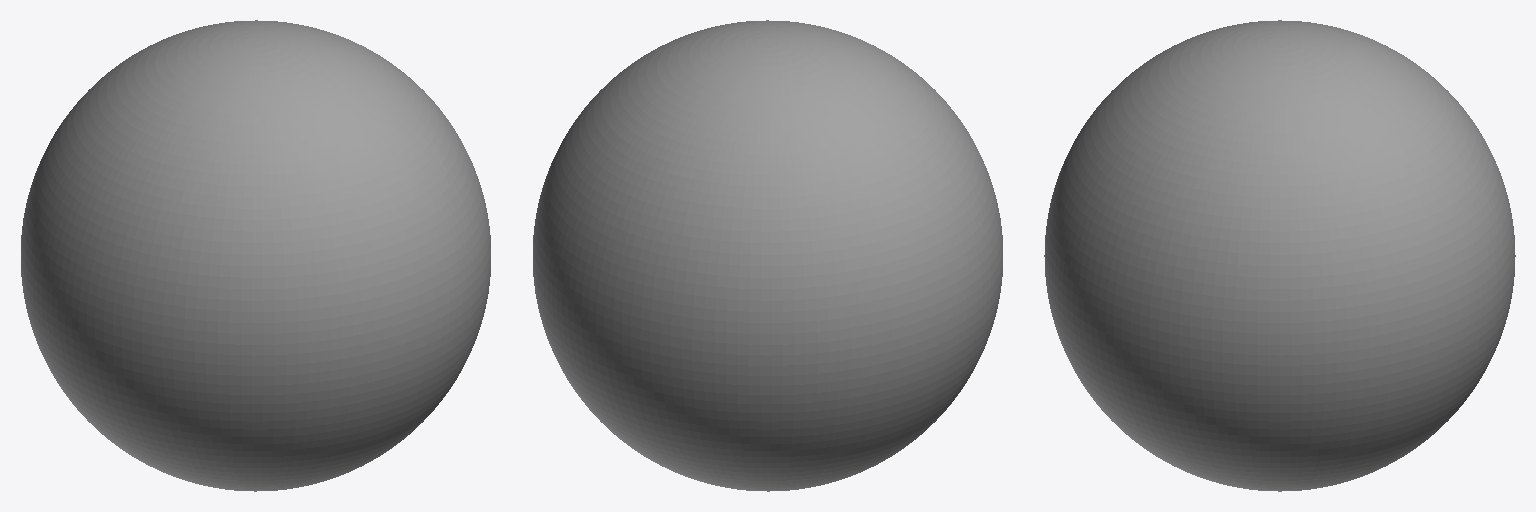
File: sun.obj
3 renders of one model, left to right at view 1: azimuth 30°, elevation 25°; view 2: azimuth 150°, elevation 25°; view 3: azimuth 270°, elevation 25°, orthographic.
Parts seen in each view (by area): view 1: Sphere_Sphere.001; view 2: Sphere_Sphere.001; view 3: Sphere_Sphere.001.
Boxes of the visible parts, x1,y1,x2,y2 form: Sphere_Sphere.001: [21, 20, 490, 491]; Sphere_Sphere.001: [533, 20, 1002, 491]; Sphere_Sphere.001: [1044, 20, 1515, 491].
Size of the model in its own units: 20000 by 20000 by 20000.